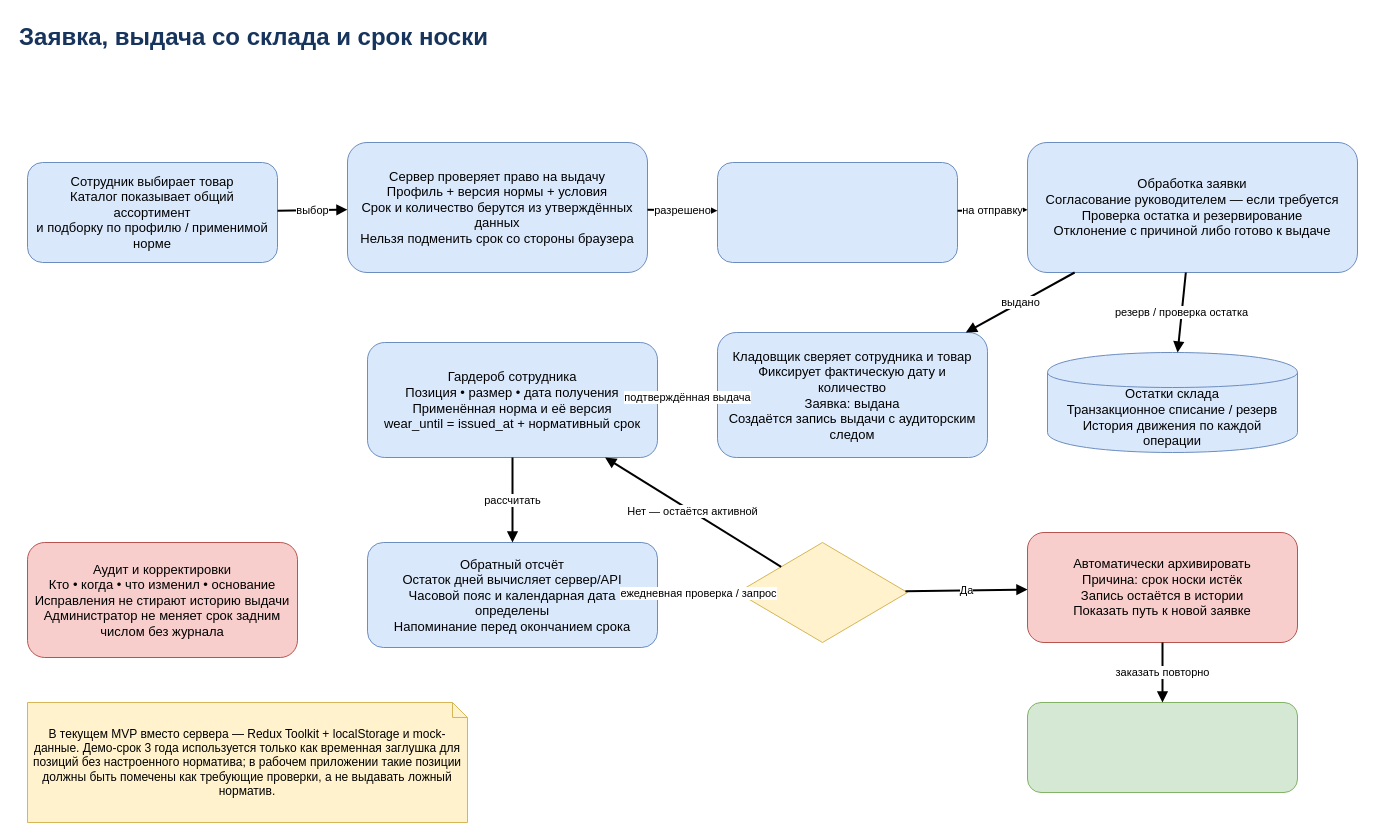
Some shapes in this 1375 by 840 pixel diagram are drawn without their labels. Each missing label, with the box of its shape:
Новая заявка Право проверяется заново Наличие подтверждается складом: (1026, 702, 1298, 792)
Создать заявку Размер • количество • подразделение Статус: черновик → отправлена: (716, 162, 958, 262)
Срок истёк?: (736, 542, 908, 642)
